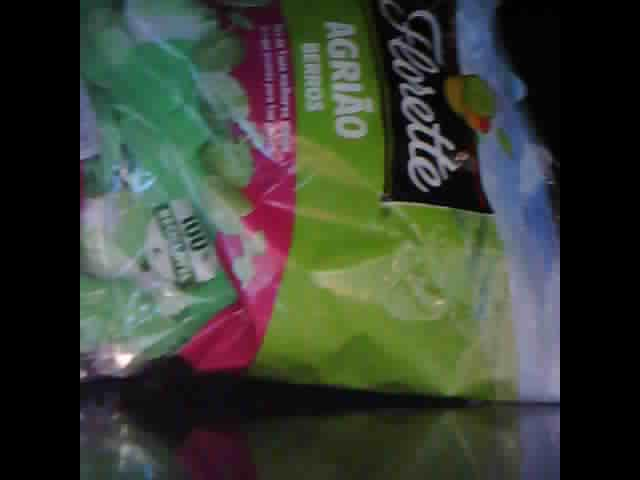florette: (85, 3, 559, 405)
